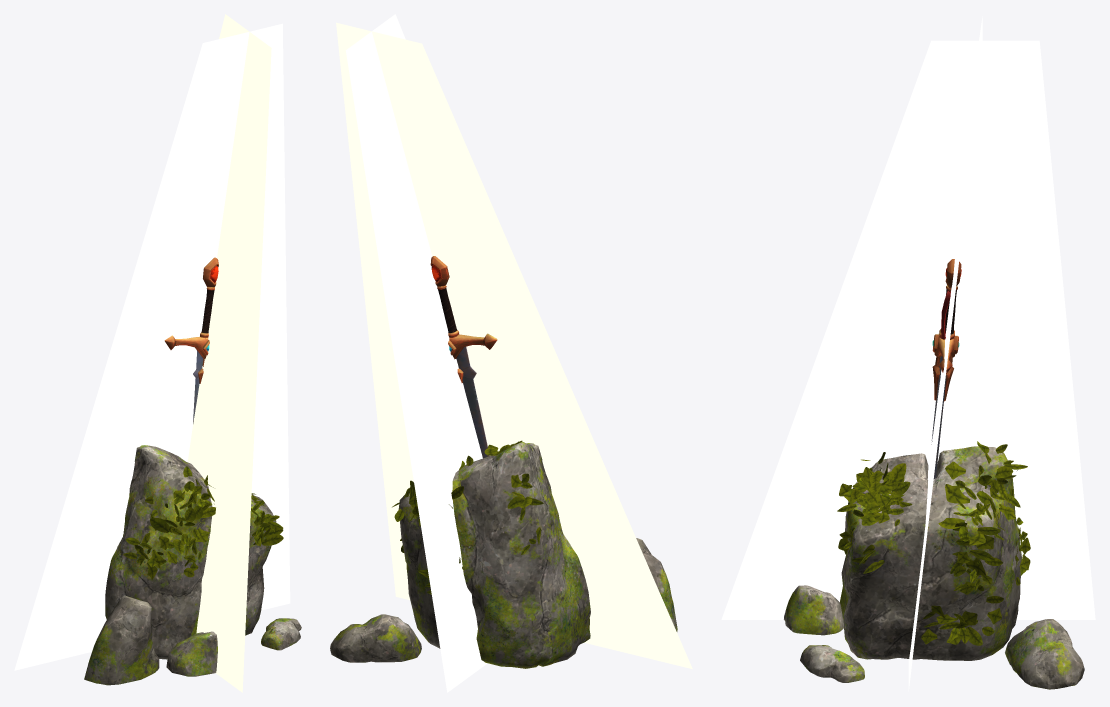
The picture shows the model from 3 angles, left to right: view 1: azimuth 30°, elevation 25°; view 2: azimuth 150°, elevation 25°; view 3: azimuth 270°, elevation 25°; orthographic projection. The views are drawn at different scales.
Visible parts, largest first — view 1: Plane010, stone_LP001, might_small_stone_LP001, Object088_Mat_Grass_0, Object048_Mat_Grass_0, sword_garda_LP; view 2: Plane010, stone_LP001, might_small_stone_LP001, Object048_Mat_Grass_0, sword_blade_LP, sword_garda_LP, Object088_Mat_Grass_0; view 3: Plane010, stone_LP001, might_small_stone_LP001, Object088_Mat_Grass_0, Object048_Mat_Grass_0.
Boxes of the visible parts, box(x1,y1,x2,y2) form: Plane010: box(14, 14, 290, 692); stone_LP001: box(105, 445, 276, 659); might_small_stone_LP001: box(84, 595, 301, 685); Object088_Mat_Grass_0: box(134, 477, 283, 579); Object048_Mat_Grass_0: box(123, 466, 283, 577); sword_garda_LP: box(164, 335, 208, 358); Plane010: box(336, 14, 692, 692); stone_LP001: box(398, 441, 590, 668); might_small_stone_LP001: box(330, 538, 677, 662); Object048_Mat_Grass_0: box(392, 451, 543, 594); sword_blade_LP: box(456, 346, 489, 458); sword_garda_LP: box(449, 333, 497, 359); Object088_Mat_Grass_0: box(403, 440, 522, 579); Plane010: box(721, 16, 1095, 691); stone_LP001: box(840, 446, 1021, 660); might_small_stone_LP001: box(784, 585, 1084, 689); Object088_Mat_Grass_0: box(839, 456, 1030, 643); Object048_Mat_Grass_0: box(837, 441, 1027, 645).
Size of the model in its own units: 0.9871 by 1.73 by 0.9079.
4 materials, 4 textured.
